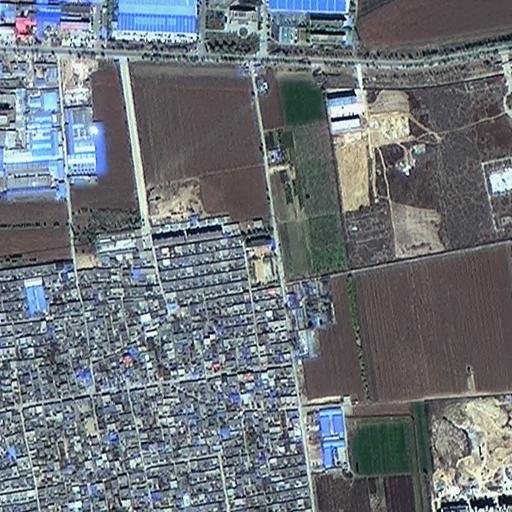school: (244, 216, 278, 287)
